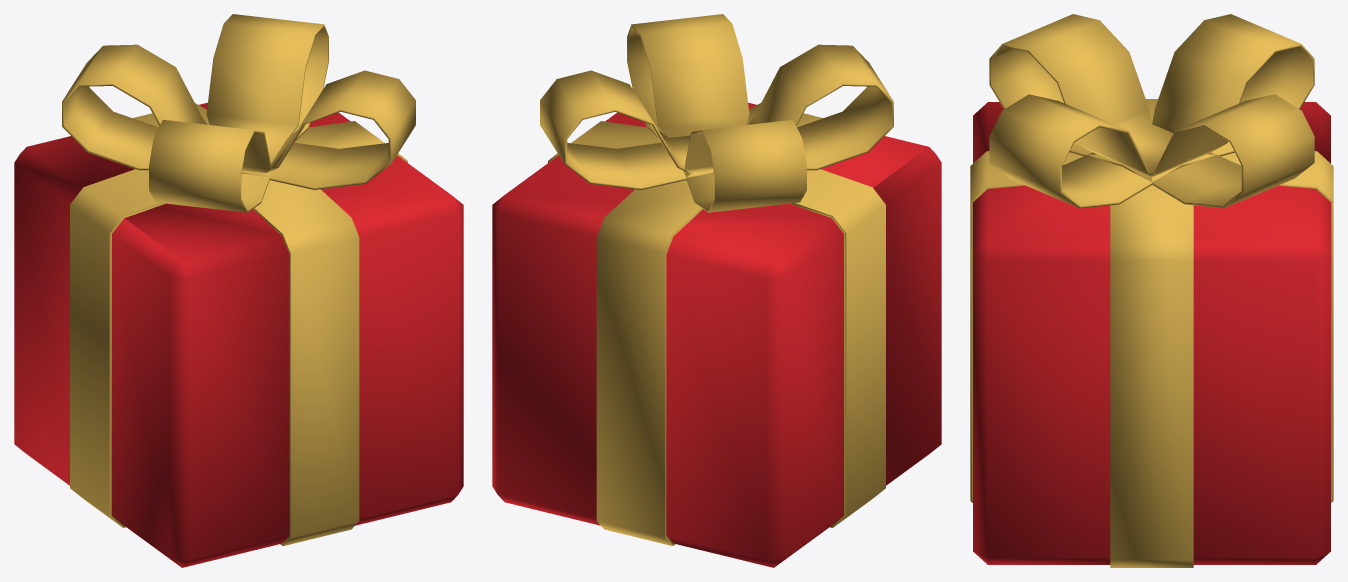
File: Present x4.fbx
The picture shows the model from 3 angles, left to right: view 1: azimuth 30°, elevation 25°; view 2: azimuth 150°, elevation 25°; view 3: azimuth 270°, elevation 25°; orthographic projection. The views are drawn at different scales.
Visible parts, largest first — view 1: Present x4; view 2: Present x4; view 3: Present x4.
Boxes of the visible parts, x1,y1,x2,y2 form: Present x4: [14, 14, 463, 567]; Present x4: [492, 14, 941, 567]; Present x4: [970, 14, 1333, 567].
Size of the model in its own units: 60.92 by 78.84 by 60.92.
